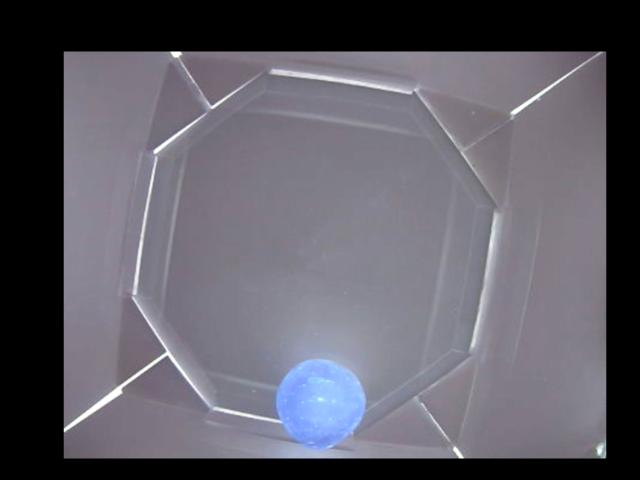Potato: (277, 358, 361, 451)
